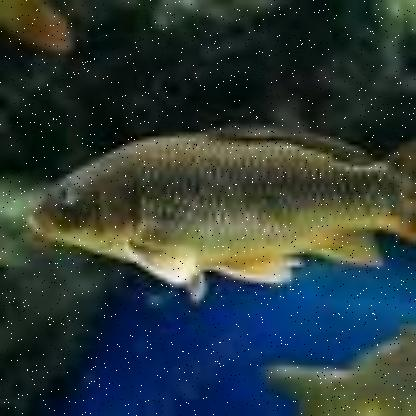ikan-mas: (29, 124, 414, 290)
